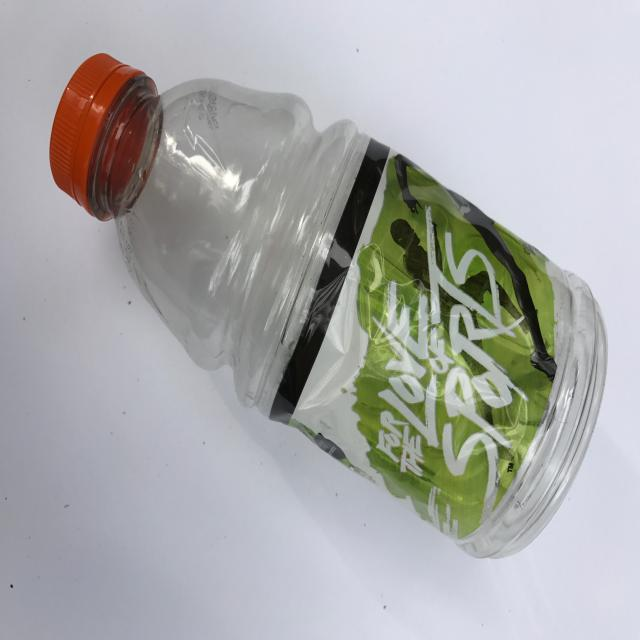plastic: (49, 52, 608, 560)
